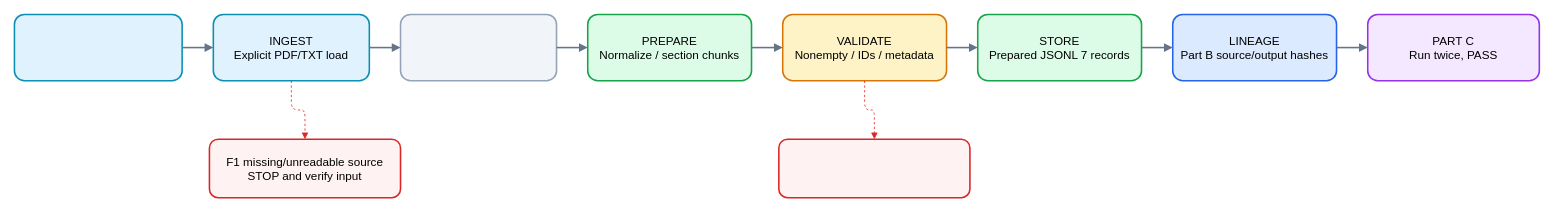
Image size: 1553x211. Some labels were removed from this diagram. Here are the shapes that lost their labels. From the top down, the box of each, then its label:
(13, 13, 183, 81): SOURCE: S01 + S02 Synthetic PDF / TXT
(399, 13, 557, 81): INSPECT Content + SHA256
(778, 138, 970, 198): F2 invalid output STOP and inspect records
